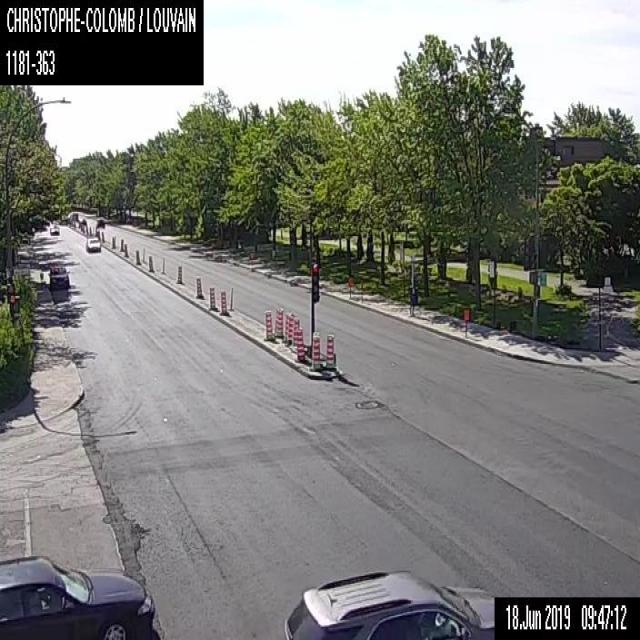construction: (309, 330, 322, 370), (324, 333, 335, 369), (294, 329, 306, 361), (263, 309, 274, 340), (274, 307, 284, 337), (281, 312, 289, 342), (219, 289, 228, 315), (292, 315, 298, 351), (208, 286, 217, 309), (286, 316, 293, 345), (462, 307, 469, 335), (195, 276, 203, 297), (176, 264, 182, 283), (122, 242, 128, 256), (135, 248, 140, 264), (148, 254, 152, 270), (111, 235, 115, 248), (119, 237, 123, 250), (101, 230, 104, 241), (96, 228, 99, 236)
vehicle: (282, 568, 493, 639), (0, 552, 155, 639), (48, 261, 69, 287), (86, 235, 100, 251), (49, 224, 59, 234), (95, 217, 104, 227), (319, 634, 337, 638), (77, 217, 86, 223)
